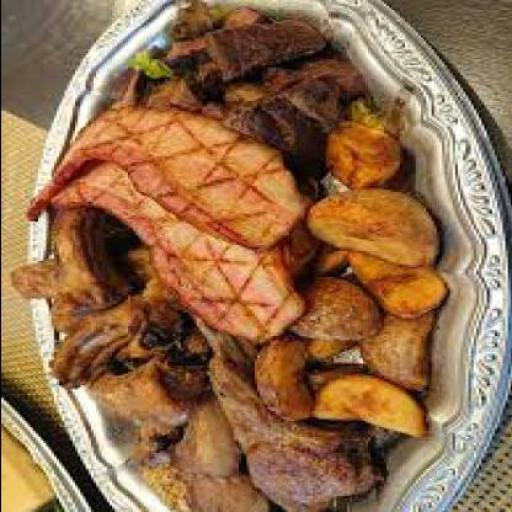biodegradable: (47, 160, 301, 340), (21, 102, 298, 248), (203, 352, 375, 510), (45, 299, 185, 387), (298, 182, 440, 265), (48, 210, 129, 332), (88, 359, 182, 453), (304, 370, 425, 435), (204, 17, 322, 81), (159, 393, 242, 478), (225, 99, 317, 166), (346, 251, 440, 316), (356, 308, 430, 387), (288, 274, 378, 338), (320, 116, 400, 188), (248, 334, 312, 419), (264, 71, 340, 122), (174, 475, 269, 510), (258, 59, 348, 89), (134, 461, 188, 510), (142, 74, 206, 109), (164, 39, 210, 84), (6, 259, 54, 301), (166, 0, 208, 39), (222, 81, 272, 107), (208, 4, 262, 28), (298, 338, 354, 357), (124, 46, 164, 72), (113, 69, 138, 103), (198, 101, 233, 121)
